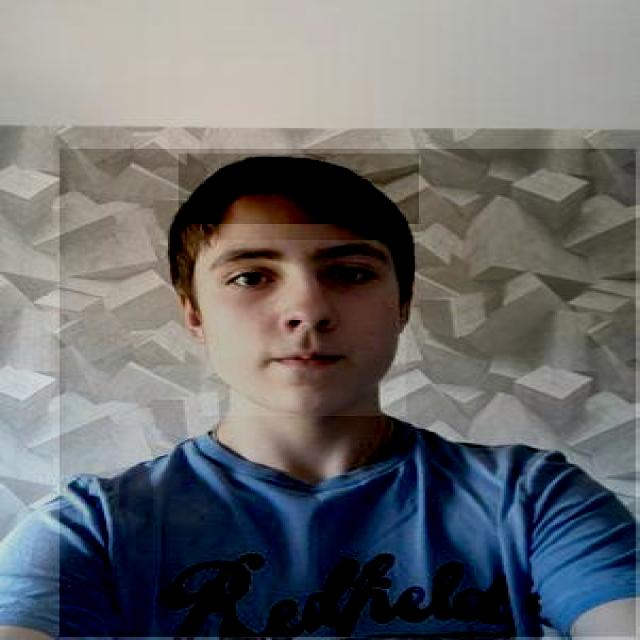face_nomask: (200, 240, 406, 416)
head_nohelmet: (178, 154, 419, 224)
person: (59, 149, 638, 638)
